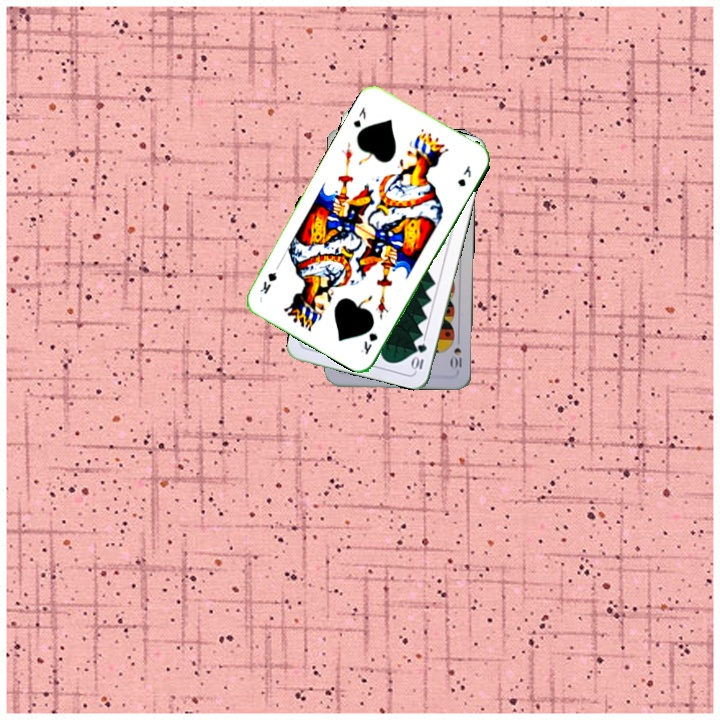G10: (409, 340, 429, 373)
GK: (356, 329, 380, 357), (349, 103, 369, 130)
S10: (448, 333, 464, 373)
